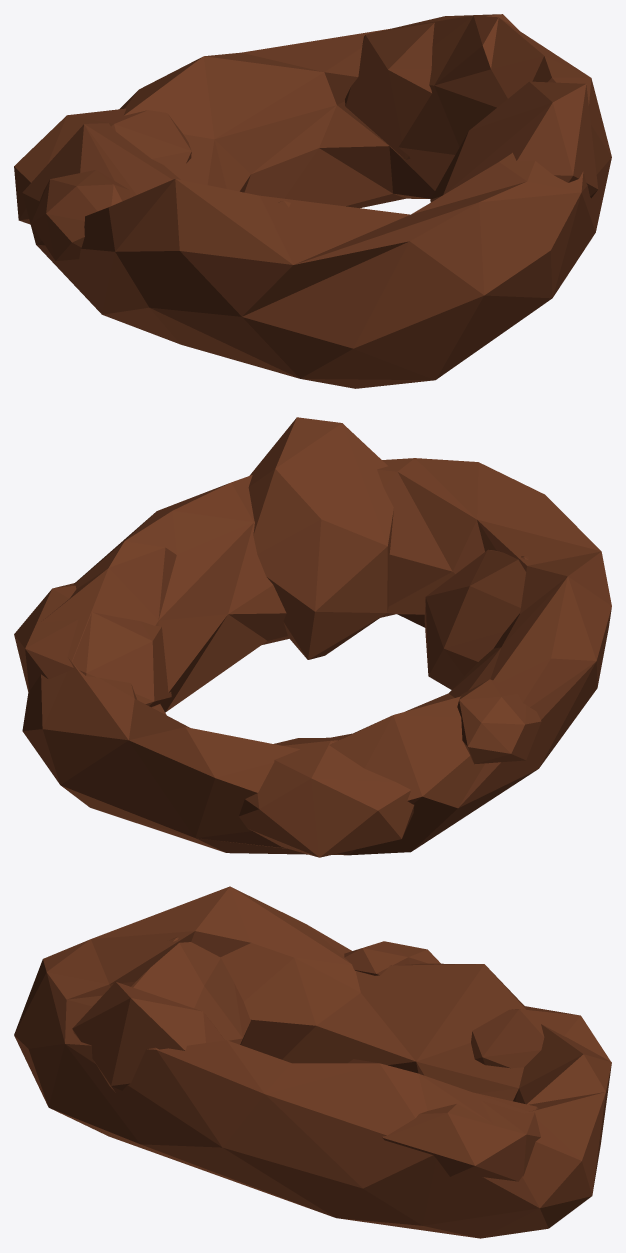
File: Earth.fbx
The picture shows the model from 3 angles, top to bottom: view 1: azimuth 30°, elevation 25°; view 2: azimuth 150°, elevation 25°; view 3: azimuth 270°, elevation 25°; orthographic projection. The views are drawn at different scales.
Parts seen in each view (by area): view 1: Rock_2.001; view 2: Rock_2.001; view 3: Rock_2.001.
Part boxes in pixels (x1,y1,x2,y2): Rock_2.001: [14, 14, 611, 388]; Rock_2.001: [14, 417, 611, 857]; Rock_2.001: [14, 886, 611, 1238].
Bounding box in the file's own units: 0.7175 × 0.3593 × 0.7954.
